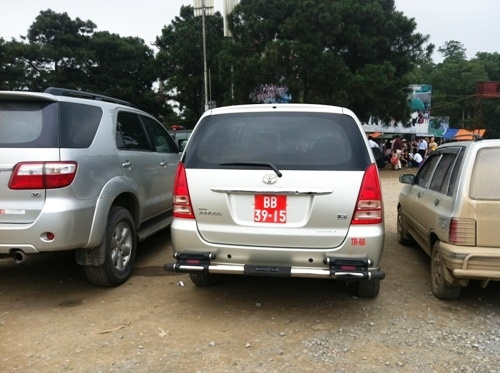plate: (253, 191, 289, 227)
